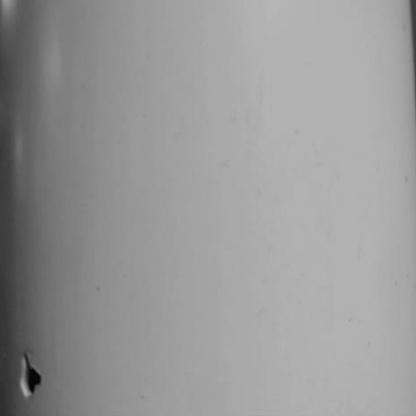kongdong: (16, 351, 51, 399)
